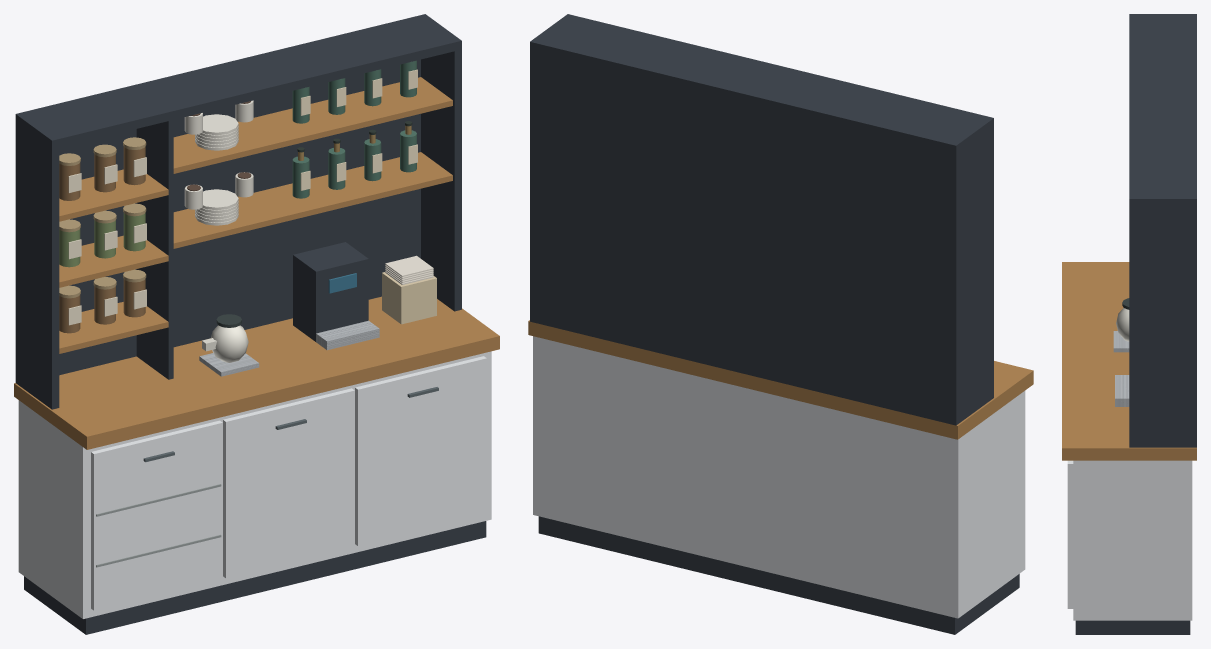
File: shelf-cafe-backbar-2.glb
3 renders of one model, left to right at view 1: azimuth 30°, elevation 25°; view 2: azimuth 150°, elevation 25°; view 3: azimuth 270°, elevation 25°, orthographic. The views are drawn at different scales.
Visible parts, largest first — view 1: backbar-lower-door (×3), backbar-back, backbar-worktop, backbar-stock-deck (×5), backbar-side (×2), backbar-cap, backbar-cabinet, backbar-plinth, backbar-cubby-divider, backbar-prep-machine, stock-jars_ece9df, stock-jars_54796b (+11 smaller); view 2: backbar-back, backbar-cabinet, backbar-cap, backbar-side (×2), backbar-plinth, backbar-worktop; view 3: backbar-cabinet, backbar-side, backbar-worktop, backbar-cap, backbar-plinth, backbar-lower-door, backbar-prep-tray, stock-kettle_e9e7dd, backbar-kettle-base.
Boxes of the visible parts, x1,y1,x2,y2 form: backbar-lower-door (×3): [91, 356, 486, 610]; backbar-back: [59, 59, 420, 375]; backbar-worktop: [14, 296, 499, 449]; backbar-stock-deck (×5): [59, 77, 452, 353]; backbar-side (×2): [15, 49, 461, 409]; backbar-cap: [15, 14, 461, 149]; backbar-cabinet: [18, 351, 491, 618]; backbar-plinth: [24, 521, 486, 634]; backbar-cubby-divider: [136, 120, 173, 379]; backbar-prep-machine: [293, 242, 368, 341]; stock-jars_ece9df: [184, 100, 253, 225]; stock-jars_54796b: [292, 60, 416, 198]; backbar-back: [537, 53, 948, 423]; backbar-cabinet: [533, 336, 1025, 618]; backbar-cap: [530, 14, 993, 154]; backbar-side (×2): [530, 51, 993, 425]; backbar-plinth: [538, 516, 1019, 634]; backbar-worktop: [528, 320, 1033, 439]; backbar-cabinet: [1073, 460, 1192, 620]; backbar-side: [1129, 207, 1196, 447]; backbar-worktop: [1062, 262, 1196, 460]; backbar-cap: [1129, 14, 1196, 206]; backbar-plinth: [1075, 620, 1190, 634]; backbar-lower-door: [1067, 460, 1073, 608]; backbar-prep-tray: [1115, 375, 1129, 406]; stock-kettle_e9e7dd: [1116, 308, 1129, 341]; backbar-kettle-base: [1113, 331, 1129, 352].
Size of the model in its own units: 1.96 by 2.15 by 0.6.
Materials: 21 (1 with a texture image).
